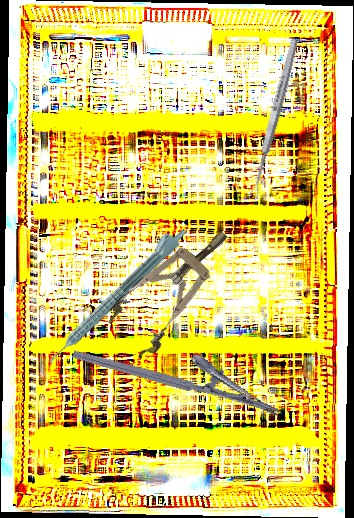Handpiece: (39, 219, 191, 368)
Needle Holder: (71, 321, 289, 418)
Speculum: (99, 212, 249, 364)
Surgical Spoon: (246, 38, 301, 201)
